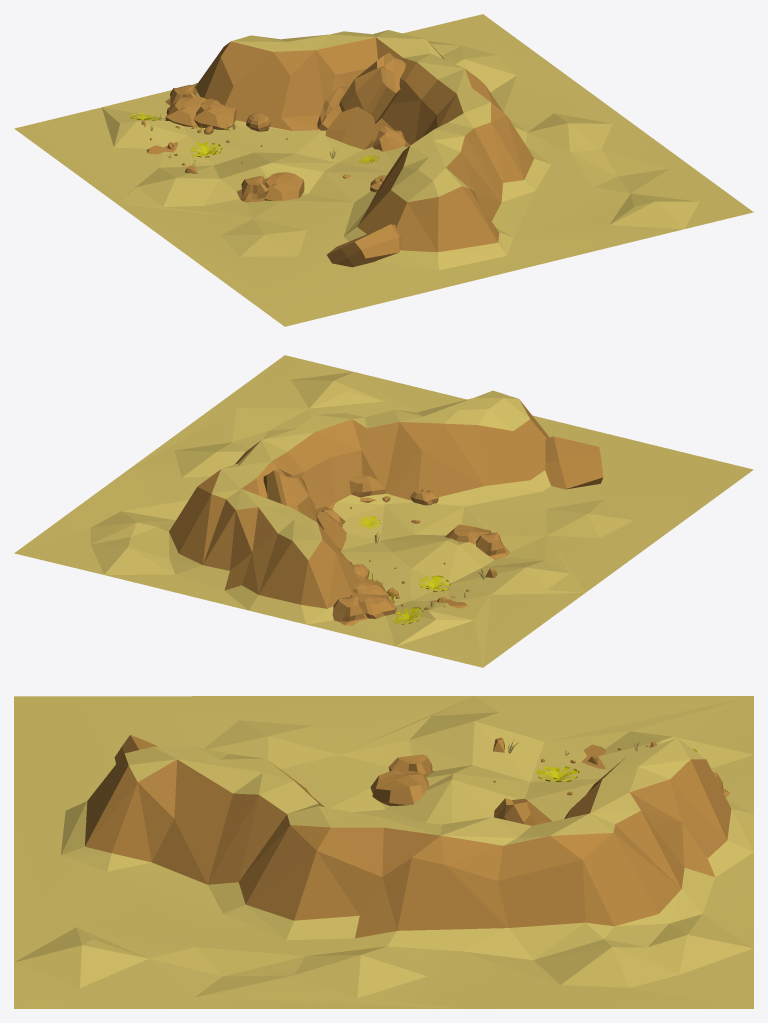
The model's file is Environment2.fbx.
3 views of the same model, one above another, from view 1: azimuth 30°, elevation 25°; view 2: azimuth 150°, elevation 25°; view 3: azimuth 270°, elevation 25° (orthographic). The views are drawn at different scales.
Parts seen in each view (by area): view 1: Terrain_1, Rock_2__6_, Rock_3__1_, Rock_3, Rock_2, Rock_2__5_, Rock_2__3_, Rock_2__2_, Rock_4__1_, Rock_2__8_; view 2: Terrain_1, Rock_3__1_, Rock_2__6_, Rock_4, Rock_2__3_, Rock_4__2_, Rock_4__1_, Rock_3, Rock_2__5_; view 3: Terrain_1, Rock_2__5_, Rock_2__6_, Rock_4__1_.
Part boxes in pixels (x1=…): Terrain_1: x1=14, y1=14, x2=753, y2=326; Rock_2__6_: x1=339, y1=52, x2=405, y2=123; Rock_3__1_: x1=327, y1=224, x2=400, y2=267; Rock_3: x1=325, y1=106, x2=378, y2=149; Rock_2: x1=193, y1=98, x2=236, y2=129; Rock_2__5_: x1=264, y1=172, x2=304, y2=200; Rock_2__3_: x1=165, y1=96, x2=206, y2=127; Rock_2__2_: x1=317, y1=86, x2=349, y2=130; Rock_4__1_: x1=237, y1=176, x2=268, y2=202; Rock_2__8_: x1=373, y1=126, x2=405, y2=151; Terrain_1: x1=14, y1=355, x2=753, y2=667; Rock_3__1_: x1=545, y1=436, x2=603, y2=489; Rock_2__6_: x1=263, y1=469, x2=317, y2=521; Rock_4: x1=332, y1=596, x2=367, y2=625; Rock_2__3_: x1=350, y1=592, x2=396, y2=618; Rock_4__2_: x1=349, y1=475, x2=385, y2=502; Rock_4__1_: x1=476, y1=532, x2=509, y2=559; Rock_3: x1=316, y1=511, x2=346, y2=550; Rock_2__5_: x1=445, y1=524, x2=491, y2=544; Terrain_1: x1=14, y1=696, x2=753, y2=1008; Rock_2__5_: x1=370, y1=770, x2=428, y2=805; Rock_2__6_: x1=494, y1=798, x2=552, y2=825; Rock_4__1_: x1=388, y1=754, x2=434, y2=776.
Bounding box in the file's own units: 4000 × 823 × 4000.
